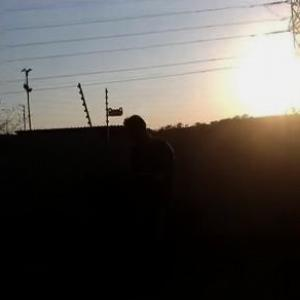follow: (124, 110, 185, 299)
